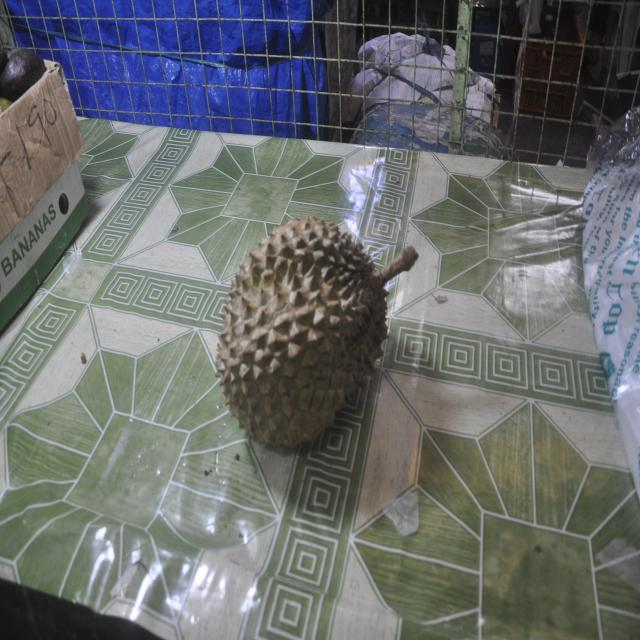mature: (215, 217, 418, 453)
